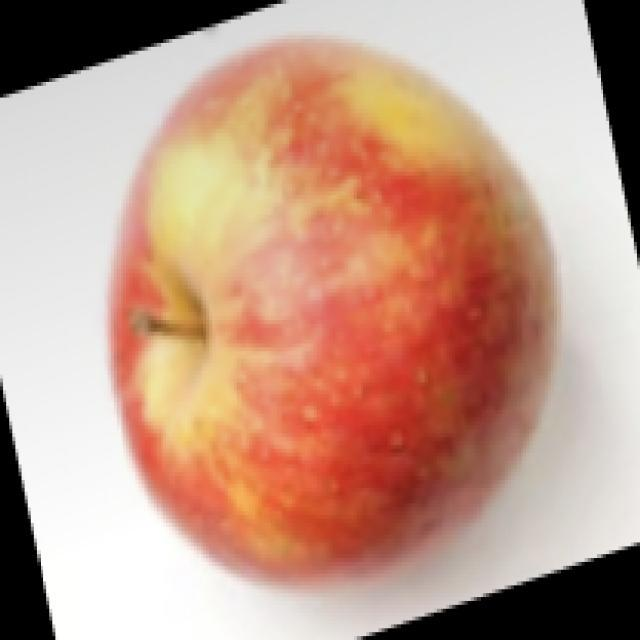Fresh Apple: (115, 52, 530, 570)
